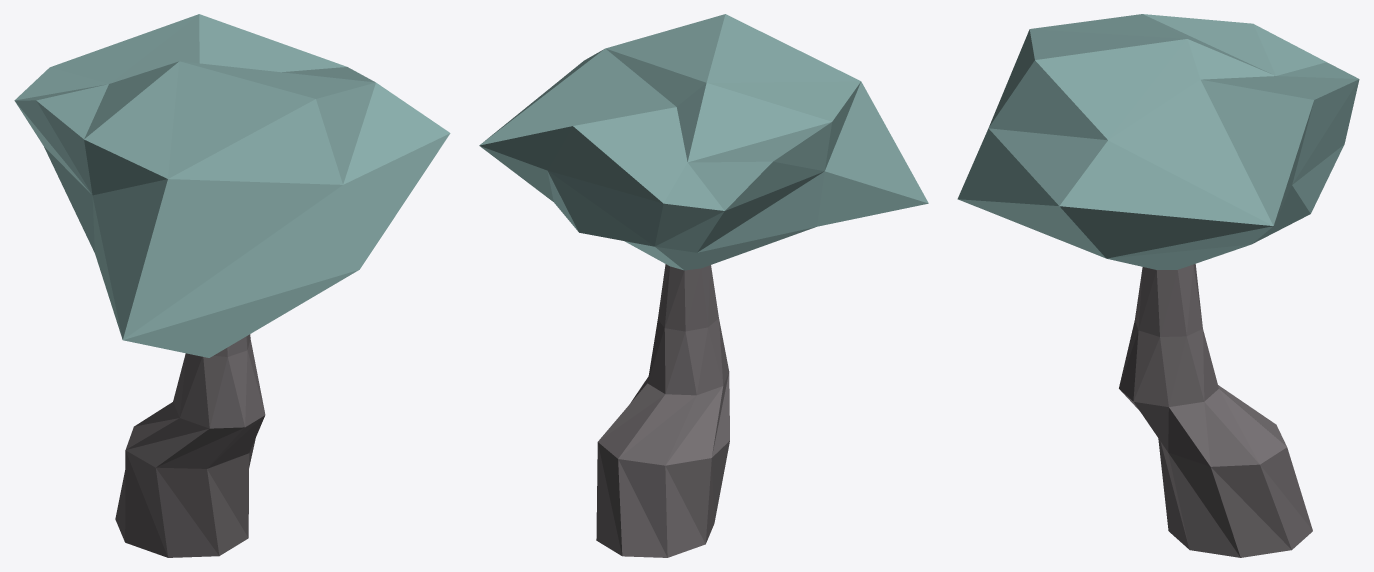
Rendered from tree03NEW.fbx.
3 renders of one model, left to right at view 1: azimuth 30°, elevation 25°; view 2: azimuth 150°, elevation 25°; view 3: azimuth 270°, elevation 25°, orthographic. The views are drawn at different scales.
Visible parts, largest first — view 1: pCube11; view 2: pCube11; view 3: pCube11.
Part boxes in pixels (x1=…): pCube11: x1=14, y1=14, x2=450, y2=557; pCube11: x1=479, y1=14, x2=928, y2=557; pCube11: x1=957, y1=14, x2=1359, y2=557.
Size of the model in its own units: 0.0546 by 0.0713 by 0.0537.
